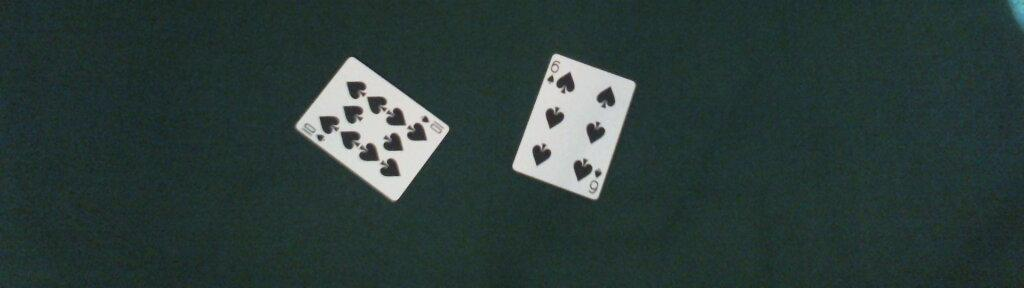six: (510, 54, 636, 201)
ten: (295, 56, 449, 202)
